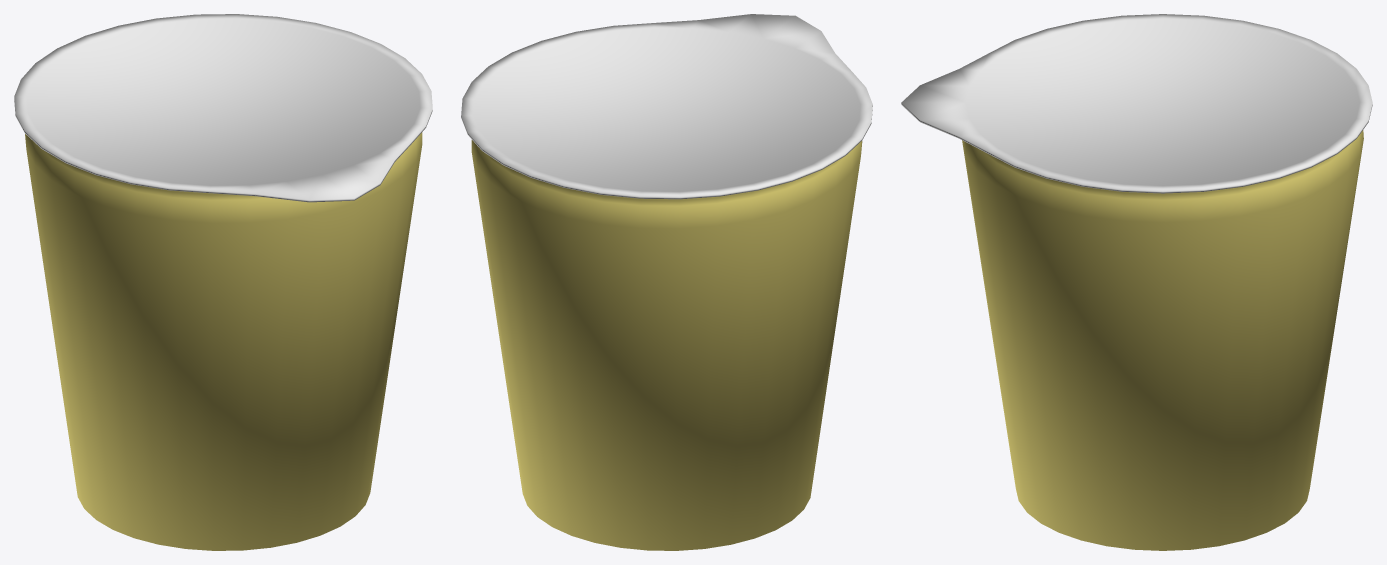
Rendered from item_single_cup_noodle.fbx.
3 renders of one model, left to right at view 1: azimuth 30°, elevation 25°; view 2: azimuth 150°, elevation 25°; view 3: azimuth 270°, elevation 25°, orthographic.
Visible parts, largest first — view 1: Cylinder; view 2: Cylinder; view 3: Cylinder.
Part boxes in pixels (x1=…): Cylinder: x1=14, y1=14, x2=432, y2=550; Cylinder: x1=461, y1=14, x2=872, y2=550; Cylinder: x1=901, y1=14, x2=1372, y2=550.
Bounding box in the file's own units: 36.34 × 36.93 × 40.85.
